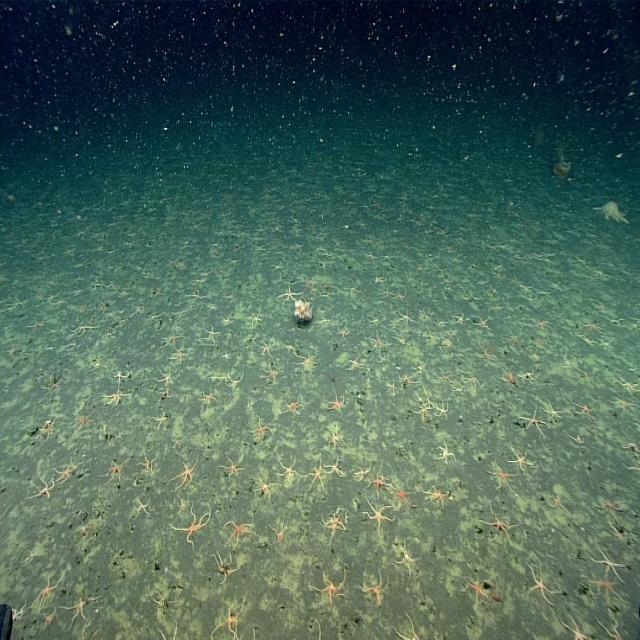brittle-stars: (169, 498, 219, 552), (204, 588, 254, 640), (516, 557, 564, 609), (307, 557, 354, 608), (453, 566, 499, 616), (58, 586, 100, 637), (478, 503, 523, 545), (589, 535, 627, 584), (94, 444, 132, 492), (26, 562, 62, 612), (360, 497, 397, 545), (313, 503, 349, 552), (164, 453, 208, 492), (358, 566, 395, 610), (219, 512, 259, 551), (481, 456, 519, 497), (590, 485, 628, 524), (206, 549, 243, 589), (276, 445, 308, 490), (522, 388, 548, 442), (594, 191, 628, 232), (277, 386, 313, 424), (33, 366, 70, 402), (586, 575, 625, 609), (148, 583, 180, 622), (25, 474, 59, 510), (420, 477, 454, 513), (504, 438, 536, 476), (213, 451, 247, 486), (305, 453, 328, 504), (367, 457, 393, 501), (53, 450, 80, 492), (246, 475, 280, 506), (390, 300, 423, 331), (392, 606, 422, 640), (68, 408, 97, 443), (594, 611, 629, 640), (135, 446, 162, 483), (394, 538, 420, 576), (321, 451, 352, 482), (144, 404, 174, 436), (391, 476, 416, 514), (530, 311, 558, 344), (292, 347, 321, 378), (100, 384, 132, 412), (246, 417, 274, 449), (559, 615, 594, 640), (496, 363, 525, 393), (153, 616, 189, 640), (571, 392, 603, 419), (272, 283, 302, 311), (575, 310, 610, 334), (130, 492, 156, 524), (434, 436, 460, 468), (502, 326, 528, 358), (36, 602, 59, 638), (196, 380, 219, 416), (413, 388, 433, 429), (267, 513, 289, 550), (362, 328, 392, 355), (471, 341, 501, 368), (207, 370, 247, 390), (607, 398, 640, 422), (320, 426, 348, 454), (543, 493, 575, 516), (196, 320, 222, 348), (342, 347, 365, 378), (80, 354, 110, 377), (348, 458, 374, 484), (322, 391, 348, 417), (258, 359, 284, 385), (436, 360, 458, 390), (254, 332, 279, 358), (339, 278, 364, 304), (544, 390, 564, 422), (383, 371, 402, 404), (65, 319, 103, 335), (8, 598, 26, 630), (162, 322, 184, 348), (392, 369, 418, 391), (24, 316, 48, 339), (154, 383, 178, 406), (412, 355, 434, 380), (376, 278, 398, 302), (434, 399, 455, 424), (152, 366, 178, 386), (241, 306, 264, 328), (521, 362, 542, 386), (172, 490, 192, 515), (39, 417, 56, 446), (362, 308, 383, 331), (311, 310, 335, 330), (175, 291, 208, 305), (566, 429, 589, 449), (164, 347, 188, 366), (451, 307, 470, 331), (488, 295, 507, 319), (473, 314, 495, 334), (334, 321, 353, 344), (464, 372, 485, 391), (395, 283, 412, 306), (449, 379, 468, 399), (310, 613, 324, 640), (376, 348, 394, 368), (395, 331, 412, 352), (303, 275, 323, 290), (63, 337, 78, 355), (112, 370, 130, 384), (283, 339, 295, 359), (104, 326, 115, 346), (618, 464, 640, 474)
